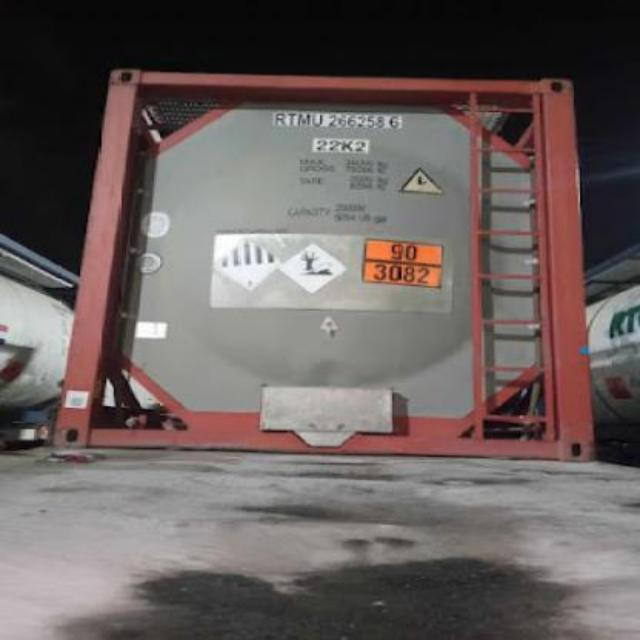2: (328, 109, 336, 129), (356, 111, 364, 131)
5: (366, 110, 374, 132)
6: (388, 110, 398, 132), (336, 110, 346, 130), (346, 108, 356, 128)
8: (374, 108, 384, 134)
M: (294, 108, 310, 128)
R: (272, 108, 284, 128)
T: (284, 108, 294, 128)
U: (310, 109, 320, 129)
